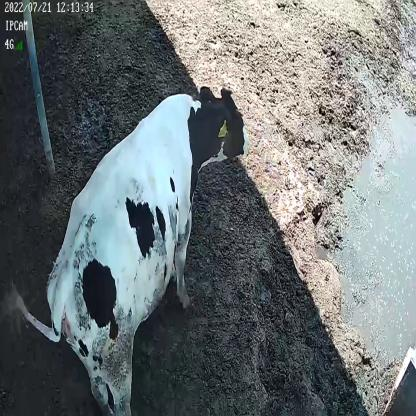cow: (5, 84, 251, 416)
